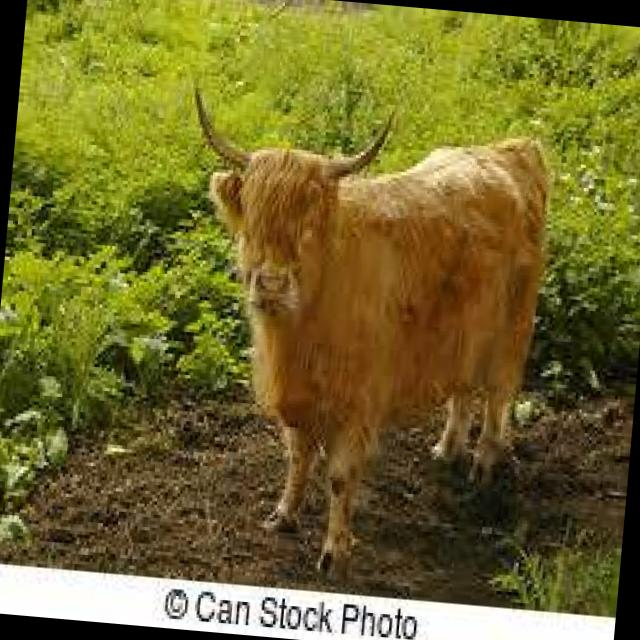animal: (151, 77, 558, 571)
